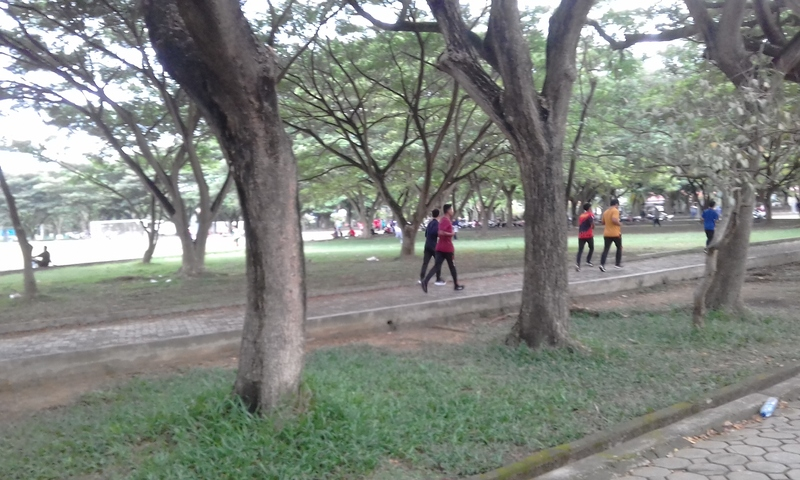person: (420, 202, 467, 294), (417, 205, 451, 287), (597, 198, 629, 273), (572, 200, 598, 273), (698, 197, 718, 257)
